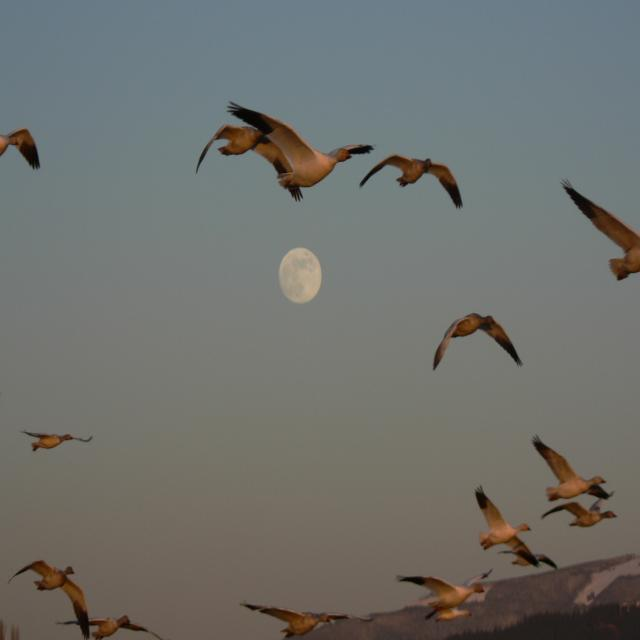bird: (206, 106, 382, 209), (557, 183, 640, 286), (472, 482, 552, 568), (354, 156, 464, 214), (528, 438, 614, 511), (243, 599, 379, 640), (397, 569, 494, 625), (430, 316, 520, 372), (537, 493, 619, 538), (9, 558, 85, 605), (53, 618, 166, 640), (0, 129, 41, 174), (22, 432, 92, 458)
